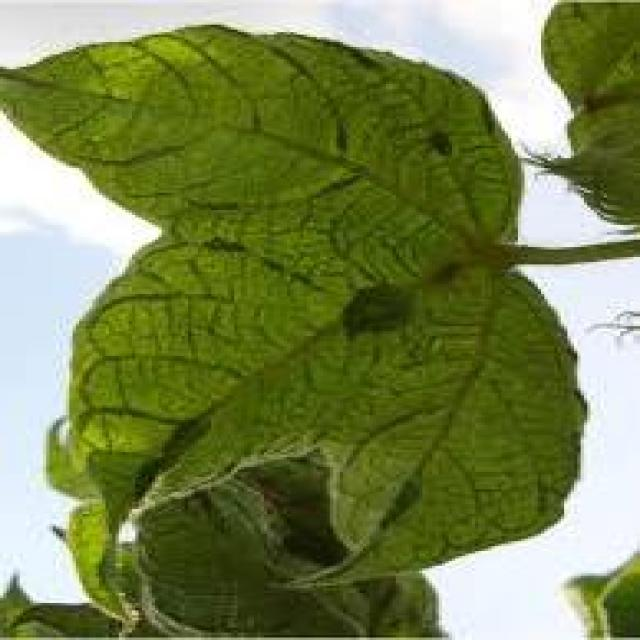Leaf Curl Virus: (113, 75, 493, 482)
